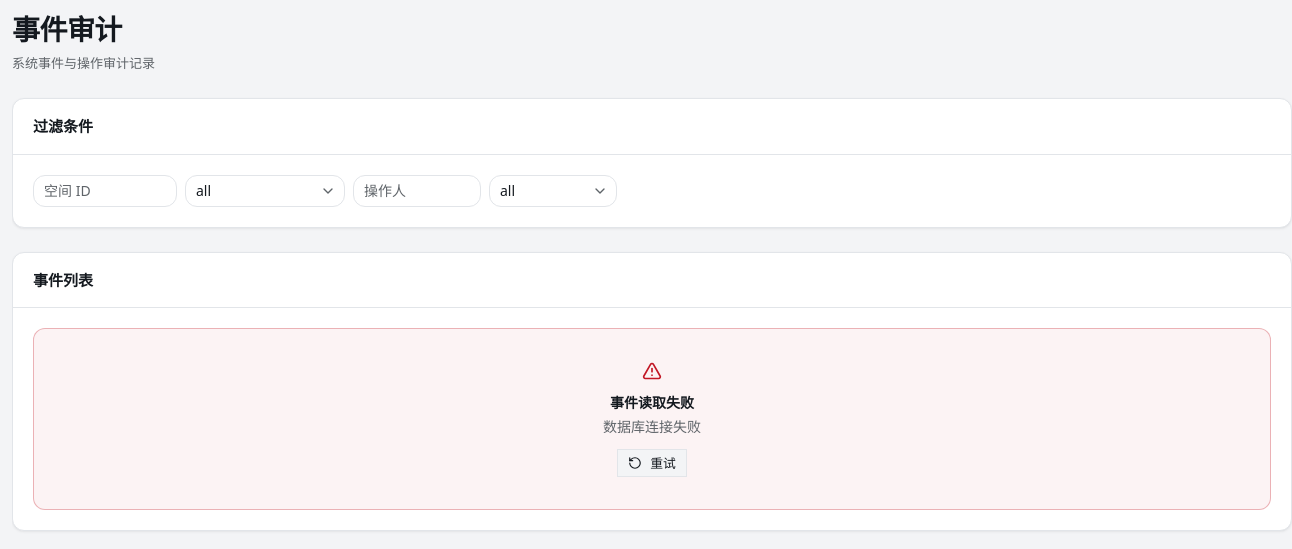
Test case: 事件列表三态（失败≠空态） › 失败显示 ErrorState + 原因 + 重试，不显示「暂无事件数据」
Expected: the text "暂无事件数据" is not shown
Click the button "重试" at point(652, 463), box [617,449,687,477]
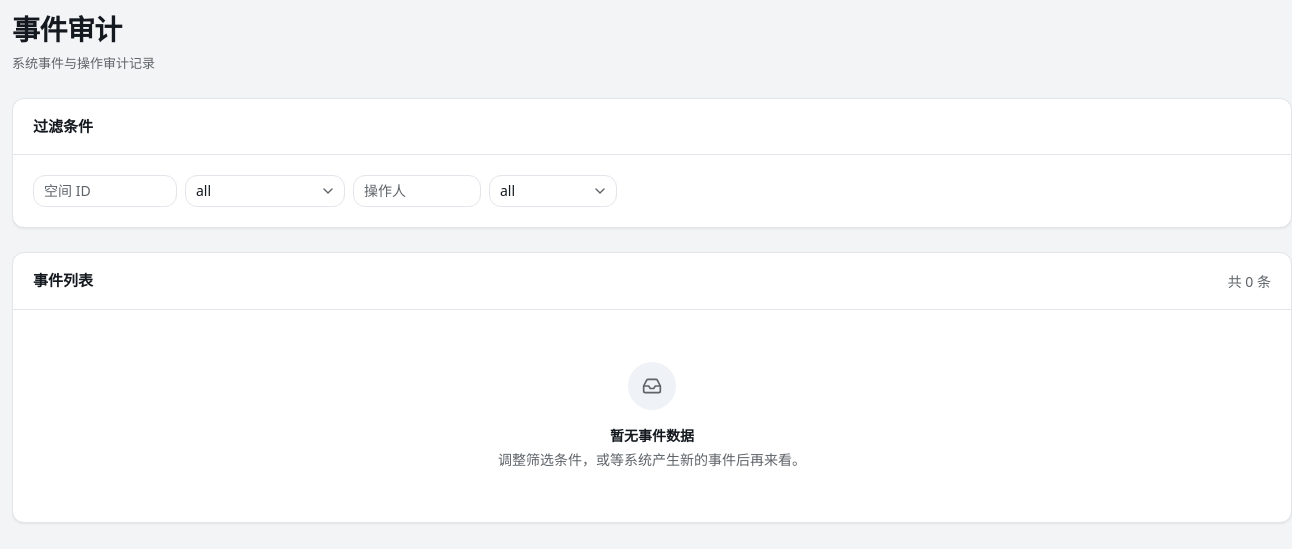
Result: the message "事件读取失败 数据库连接失败 重试" is gone
Result: the text "暂无事件数据" is shown at [610,426,694,446]
